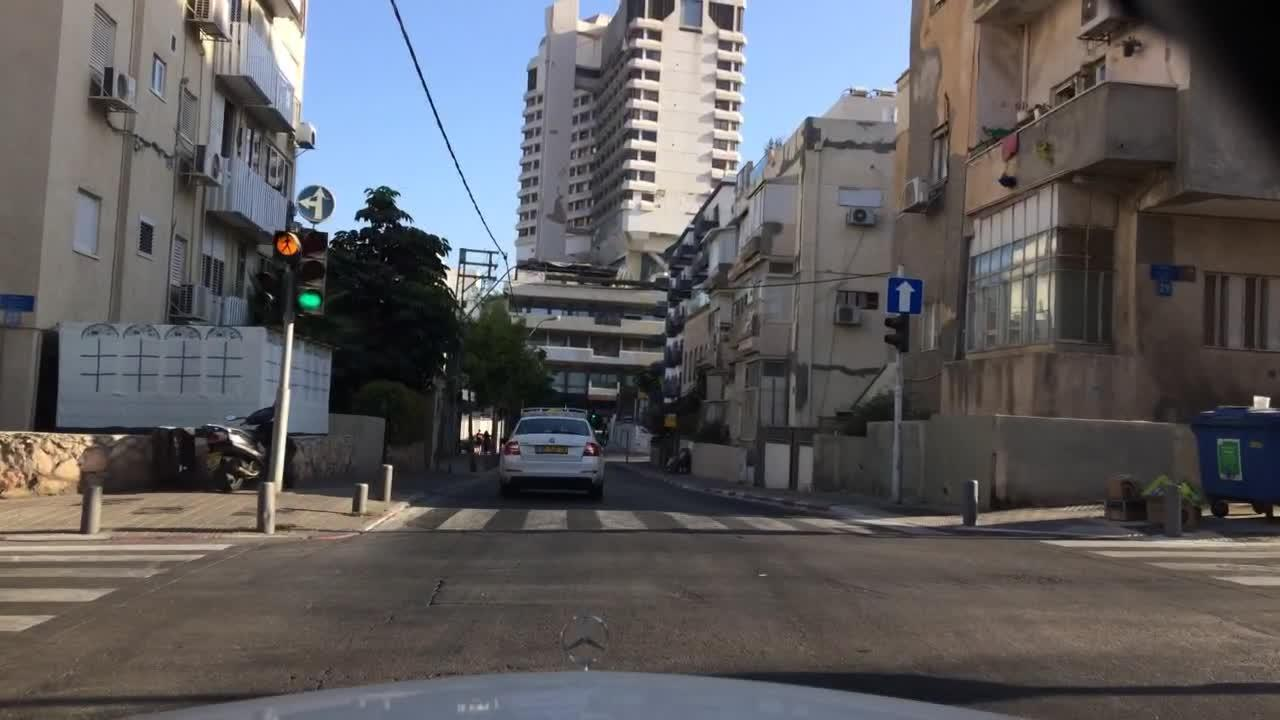Mercedes: (557, 610, 617, 670)
